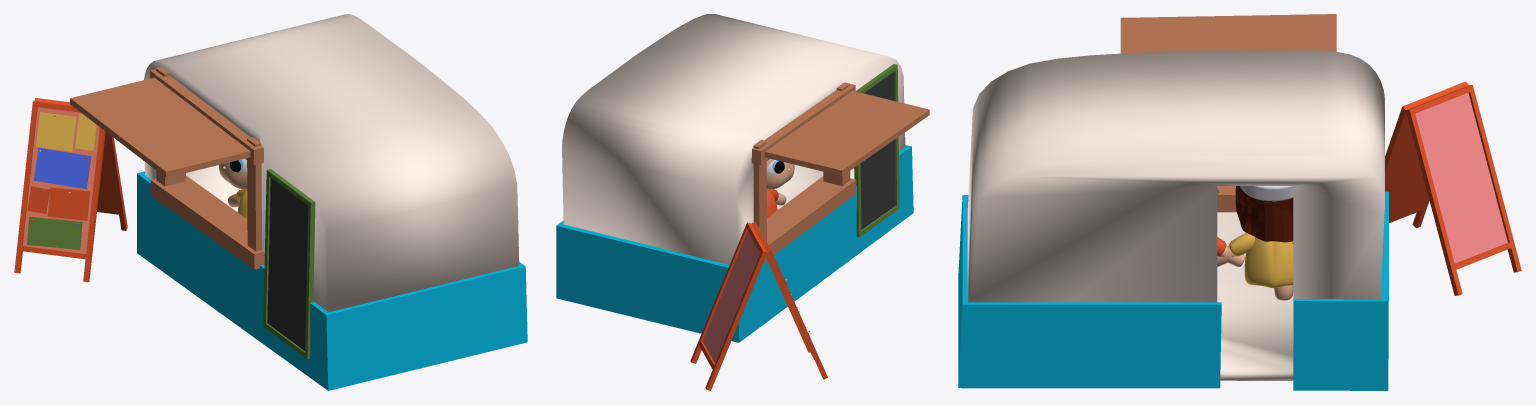
Rendered from Rendu2PizzaPopote.glb.
3 renders of one model, left to right at view 1: azimuth 30°, elevation 25°; view 2: azimuth 150°, elevation 25°; view 3: azimuth 270°, elevation 25°, orthographic. The views are drawn at different scales.
Visible parts, largest first — view 1: Cube, Cube.008, Cube.017, Cube.007, Cube.009, Cube.003, Cube.004, Cube.006, Cube.012; view 2: Cube, Cube.008, Cube.007, Cube.017, Cube.009, Cube.003, Cube.004, Cube.005, Cube.001, Cube.006; view 3: Cube, Cube.008, Cube.017, Cube.007, Cube.024, Cube.012, Cylinder.002, Cube.003.
Part boxes in pixels (box(x1,y1,x2,y2)): Cube: box(144, 14, 519, 311); Cube.008: box(137, 171, 527, 390); Cube.017: box(14, 98, 127, 282); Cube.007: box(70, 77, 250, 177); Cube.009: box(263, 169, 315, 359); Cube.003: box(150, 175, 264, 269); Cube.004: box(150, 69, 263, 165); Cube.006: box(247, 137, 261, 251); Cube.012: box(219, 162, 247, 218); Cube: box(562, 14, 905, 264); Cube.008: box(556, 145, 913, 342); Cube.007: box(765, 91, 929, 175); Cube.017: box(690, 221, 827, 390); Cube.009: box(854, 64, 899, 237); Cube.003: box(763, 176, 856, 262); Cube.004: box(751, 84, 855, 165); Cube.005: box(753, 140, 766, 241); Cube.001: box(766, 159, 794, 217); Cube.006: box(823, 82, 850, 185); Cube: box(967, 50, 1384, 380); Cube.008: box(958, 191, 1388, 390); Cube.017: box(1385, 81, 1521, 295); Cube.007: box(1120, 14, 1336, 53); Cube.024: box(1235, 186, 1293, 242); Cube.012: box(1244, 237, 1293, 288); Cylinder.002: box(1239, 186, 1293, 201); Cube.003: box(1217, 186, 1236, 212).
Bounding box in the file's own units: 10.56 × 6.87 × 14.78.
